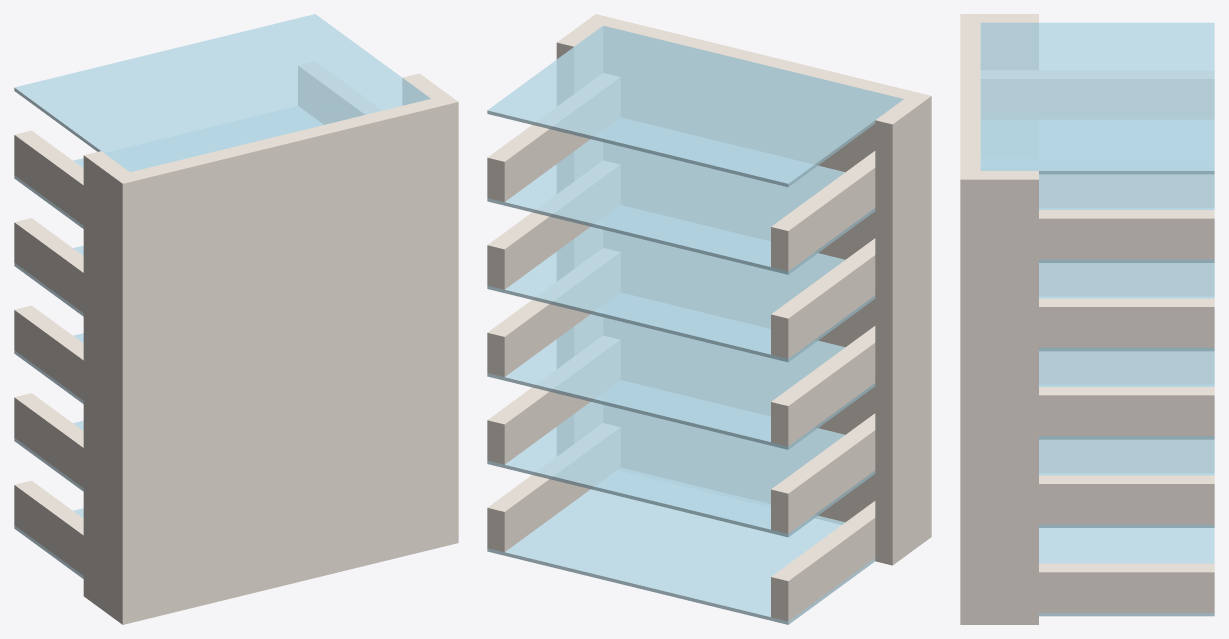
The model's file is Storage Shelves .glb.
3 renders of one model, left to right at view 1: azimuth 30°, elevation 25°; view 2: azimuth 150°, elevation 25°; view 3: azimuth 270°, elevation 25°, orthographic.
Parts seen in each view (by area): view 1: Back, Spline 2D (×8), Cube (×2); view 2: Spline 2D (×16), Back, Cube (×2); view 3: Spline 2D (×16), Cube (×2), Back.
Part boxes in pixels (x1=…): Back: x1=130, y1=99, x2=441, y2=620; Spline 2D (×8): x1=14, y1=14, x2=430, y2=575; Cube (×2): x1=83, y1=73, x2=458, y2=624; Spline 2D (×16): x1=487, y1=25, x2=903, y2=624; Back: x1=603, y1=18, x2=913, y2=524; Cube (×2): x1=556, y1=14, x2=931, y2=565; Spline 2D (×16): x1=980, y1=22, x2=1214, y2=616; Cube (×2): x1=960, y1=14, x2=1038, y2=624; Back: x1=960, y1=22, x2=980, y2=170.
Size of the model in its own units: 0.502 by 0.63 by 0.326.
